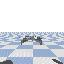drone: (19, 34, 42, 45)
